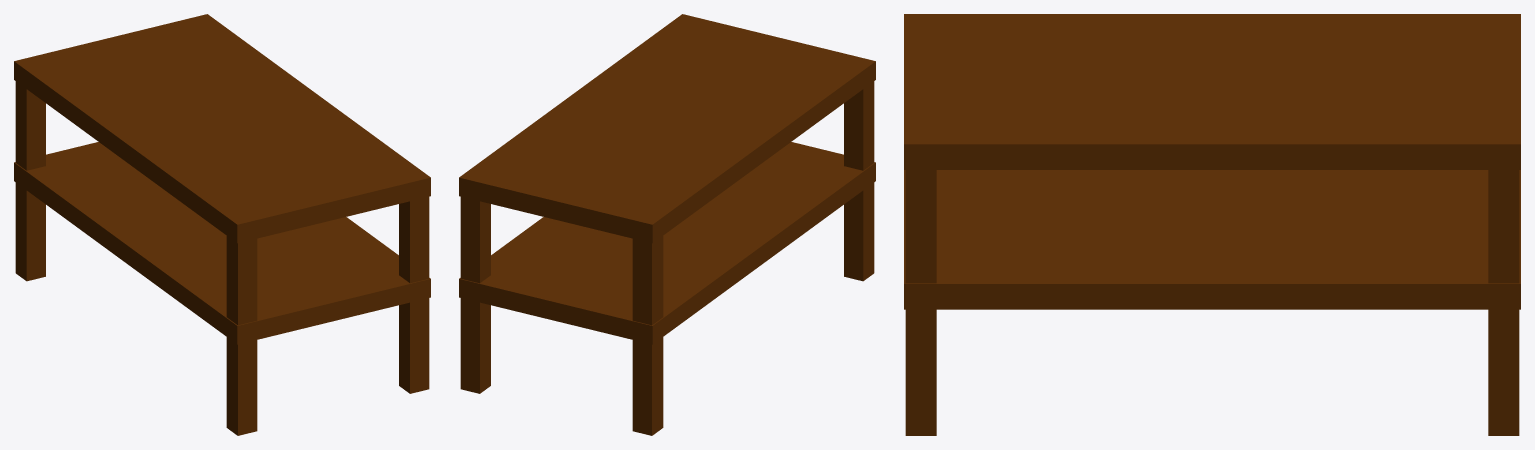
File: Etagere.fbx
The picture shows the model from 3 angles, left to right: view 1: azimuth 30°, elevation 25°; view 2: azimuth 150°, elevation 25°; view 3: azimuth 270°, elevation 25°; orthographic projection. The views are drawn at different scales.
Parts seen in each view (by area): view 1: Etagere; view 2: Etagere; view 3: Etagere.
Boxes of the visible parts, box(x1,y1,x2,y2) form: Etagere: box(14, 14, 430, 435); Etagere: box(459, 14, 875, 435); Etagere: box(904, 14, 1520, 435).
Bounding box in the file's own units: 200 × 209 × 400.
